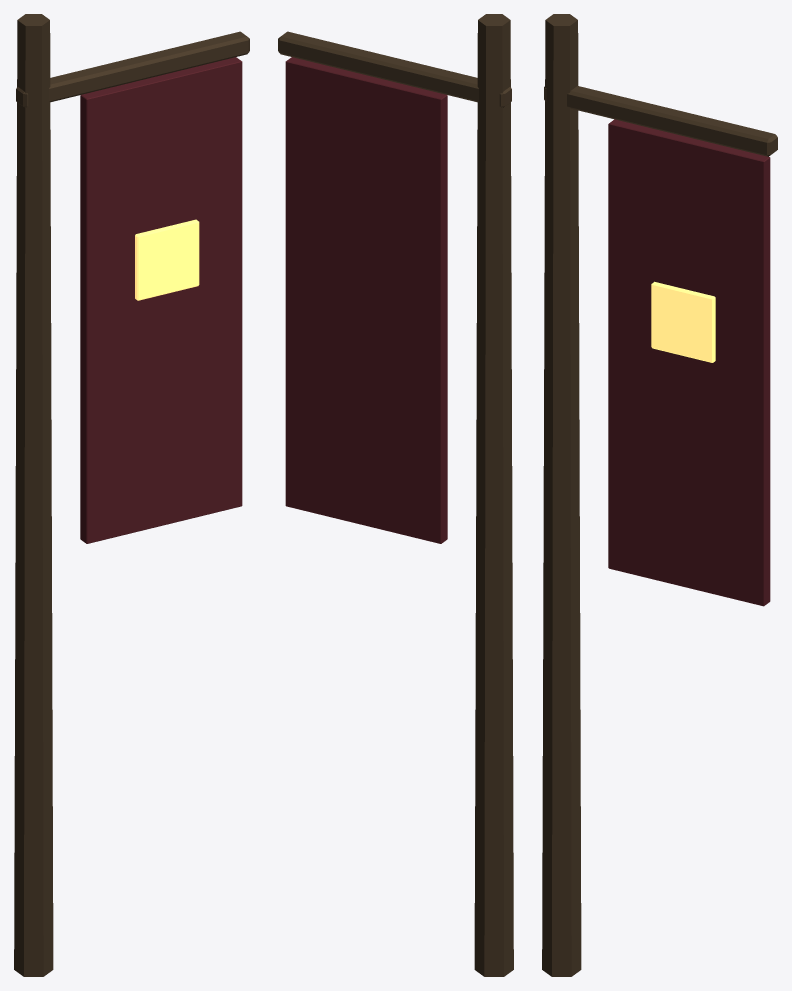
File: prp_banner_guild.glb
3 views of the same model, side by side, from view 1: azimuth 30°, elevation 25°; view 2: azimuth 150°, elevation 25°; view 3: azimuth 330°, elevation 25° (orthographic).
Visible parts, largest first — view 1: prp_banner_guild; view 2: prp_banner_guild; view 3: prp_banner_guild.
Part boxes in pixels (x1=…): prp_banner_guild: x1=14, y1=14, x2=249, y2=976; prp_banner_guild: x1=278, y1=14, x2=513, y2=976; prp_banner_guild: x1=542, y1=14, x2=777, y2=976.
Bounding box in the file's own units: 0.802 × 3.2 × 0.12.
